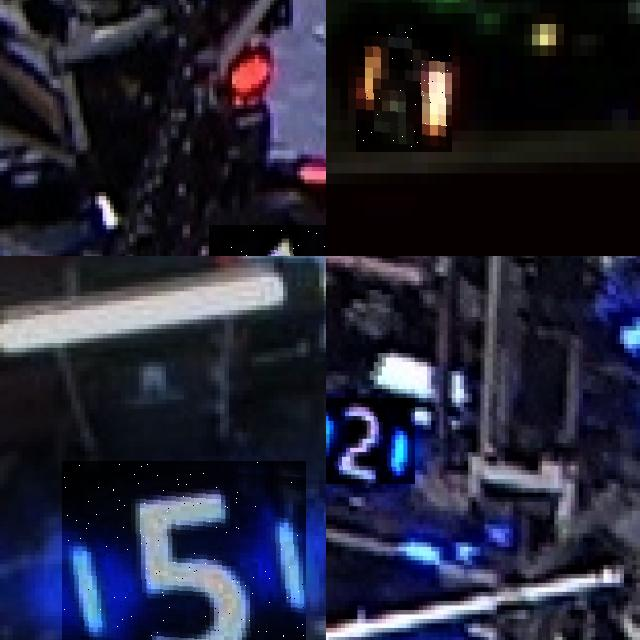B2: (326, 398, 414, 483)
B5: (62, 460, 305, 640)
R1: (209, 225, 326, 256)
Rs: (356, 24, 452, 152)
